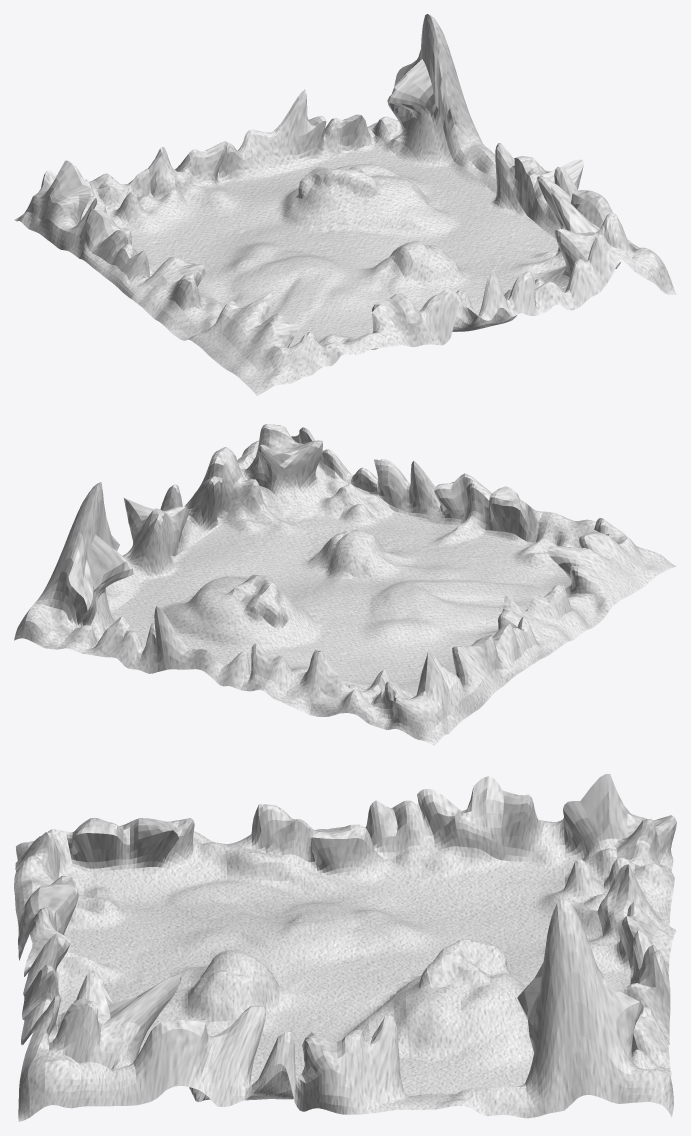
Rendered from terrain_level_0.fbx.
The picture shows the model from 3 angles, top to bottom: view 1: azimuth 30°, elevation 25°; view 2: azimuth 150°, elevation 25°; view 3: azimuth 270°, elevation 25°; orthographic projection. The views are drawn at different scales.
Visible parts, largest first — view 1: Plane; view 2: Plane; view 3: Plane.
Part boxes in pixels (x1,y1,x2,y2): Plane: [14, 14, 676, 395]; Plane: [14, 424, 676, 745]; Plane: [14, 774, 676, 1121].
Bounding box in the file's own units: 27747 × 8582 × 26642.
Materials: 1 (1 with a texture image).
